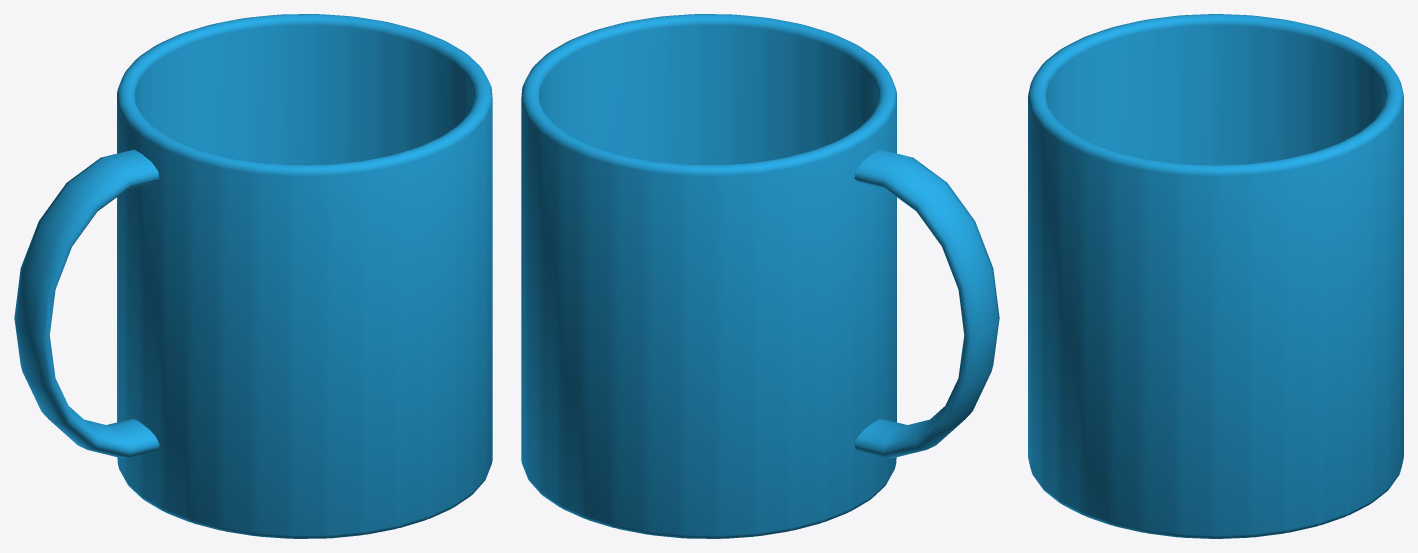
Rendered from asset.glb.
The picture shows the model from 3 angles, left to right: view 1: azimuth 30°, elevation 25°; view 2: azimuth 150°, elevation 25°; view 3: azimuth 270°, elevation 25°; orthographic projection.
Visible parts, largest first — view 1: Cylinder; view 2: Cylinder; view 3: Cylinder.
Part boxes in pixels (box(x1,y1,x2,y2)): Cylinder: box(14, 14, 492, 538); Cylinder: box(521, 14, 999, 538); Cylinder: box(1028, 14, 1403, 538).
Size of the model in its own units: 0.109 by 0.087 by 0.0798.
